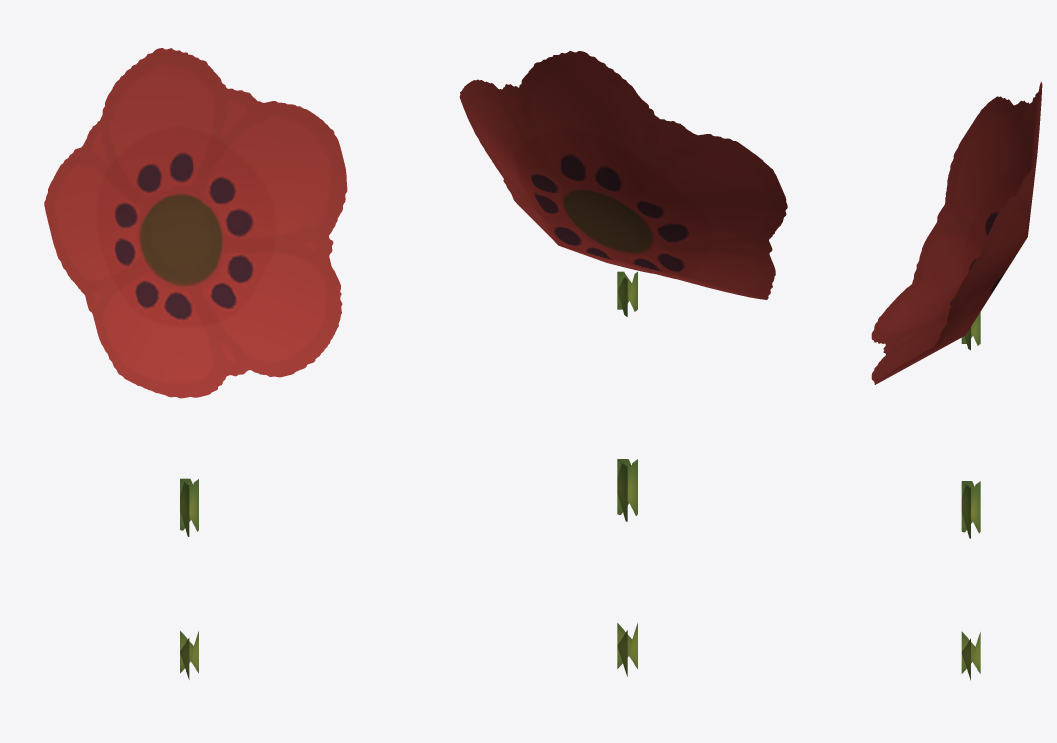
Rendered from redFlower_1.fbx.
3 renders of one model, left to right at view 1: azimuth 30°, elevation 25°; view 2: azimuth 150°, elevation 25°; view 3: azimuth 270°, elevation 25°, orthographic. The views are drawn at different scales.
Visible parts, largest first — view 1: redFlower_1; view 2: redFlower_1; view 3: redFlower_1.
Part boxes in pixels (x1,y1,x2,y2): redFlower_1: (44, 48, 347, 679); redFlower_1: (459, 51, 787, 676); redFlower_1: (871, 82, 1042, 680).
Size of the model in its own units: 0.4536 by 0.9344 by 0.231.
